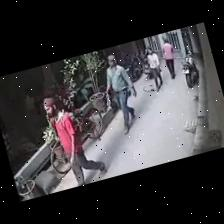person: (44, 98, 107, 185), (106, 55, 136, 134), (147, 47, 162, 91), (163, 39, 175, 78)
